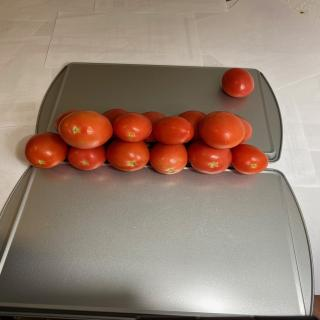Chilli: (25, 108, 269, 175)
Tomato: (59, 110, 113, 149), (199, 111, 245, 149), (24, 132, 68, 168), (187, 140, 232, 174), (106, 138, 150, 172), (149, 142, 188, 174), (153, 116, 195, 145), (112, 112, 152, 142), (231, 144, 269, 175), (222, 68, 254, 98), (68, 145, 106, 170), (178, 110, 206, 140), (142, 111, 166, 142), (54, 110, 80, 134), (234, 114, 253, 144), (102, 108, 127, 124)
